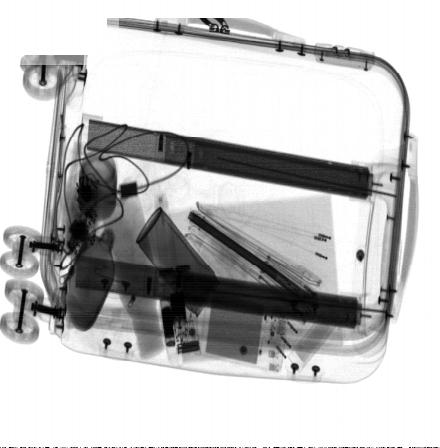Powerbank: (198, 273, 290, 373)
